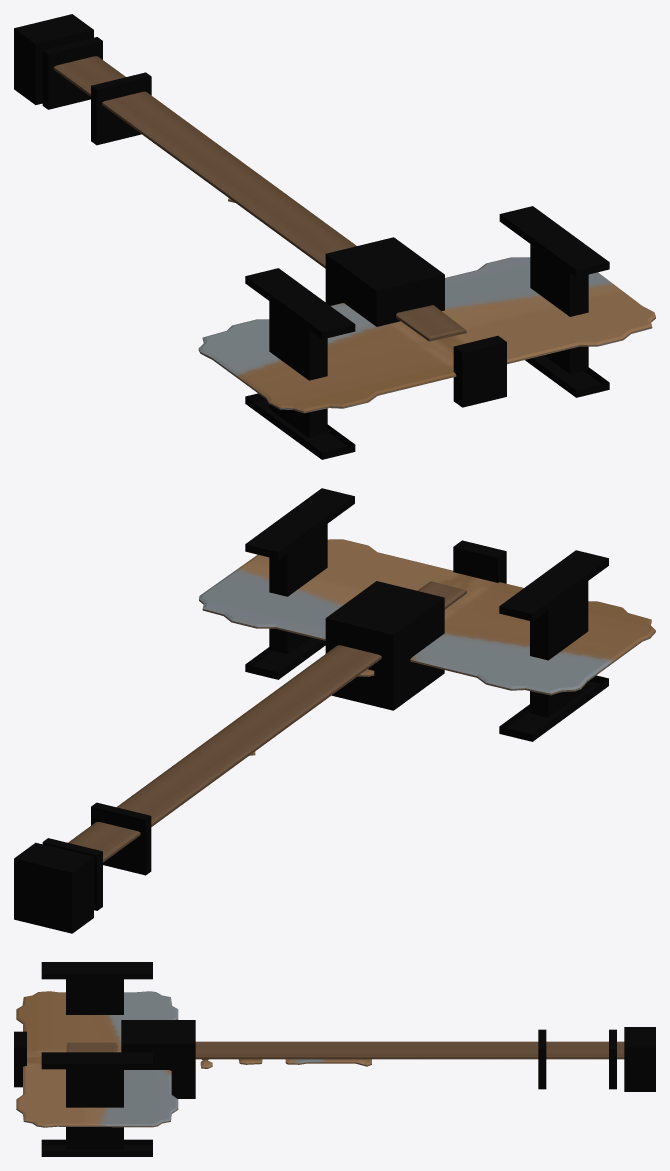
The model's file is ironwood_mallet.obj.
3 views of the same model, one above another, from view 1: azimuth 30°, elevation 25°; view 2: azimuth 150°, elevation 25°; view 3: azimuth 270°, elevation 25° (orthographic). The views are drawn at different scales.
Parts seen in each view (by area): view 1: ironwood_mallet; view 2: ironwood_mallet; view 3: ironwood_mallet.
Boxes of the visible parts, bbox=[...] form: ironwood_mallet: bbox=[14, 14, 655, 459]; ironwood_mallet: bbox=[14, 488, 655, 933]; ironwood_mallet: bbox=[14, 962, 655, 1156].
Size of the model in its own units: 0.5388 by 0.1725 by 1.08.
